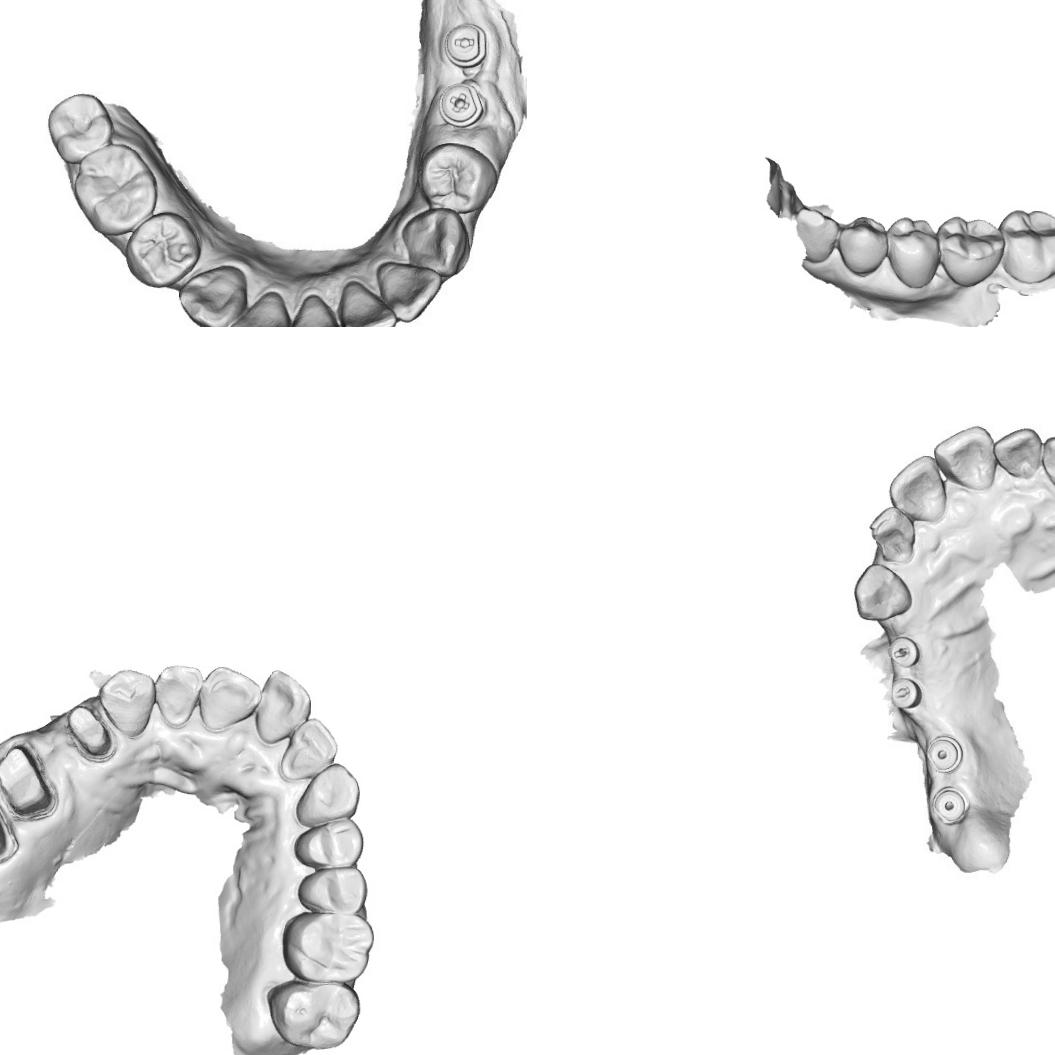canine: (396, 203, 476, 280), (177, 256, 245, 327), (96, 666, 158, 742), (294, 760, 362, 828), (849, 559, 914, 623), (792, 206, 841, 266), (1039, 430, 1055, 496)
crown: (0, 738, 59, 821), (62, 703, 121, 766)
implant: (923, 735, 965, 773), (932, 785, 966, 828)
implant_minus: (440, 20, 490, 68), (889, 674, 922, 712), (886, 636, 922, 668)
implant_plus: (436, 78, 488, 131)
incisor: (886, 453, 952, 528), (253, 669, 314, 747), (196, 664, 264, 733), (930, 423, 997, 492), (372, 258, 444, 322), (279, 714, 340, 782), (152, 661, 204, 728), (865, 504, 922, 564), (992, 421, 1044, 482), (226, 282, 294, 327), (335, 281, 400, 327), (282, 288, 344, 327)
molar: (70, 140, 164, 234), (278, 908, 376, 987), (265, 978, 362, 1052), (934, 214, 1005, 289), (994, 207, 1055, 286), (50, 92, 114, 164)
premolar: (417, 142, 494, 218), (125, 210, 201, 286), (883, 215, 942, 290), (290, 815, 365, 873), (295, 861, 371, 917), (836, 214, 888, 276)
